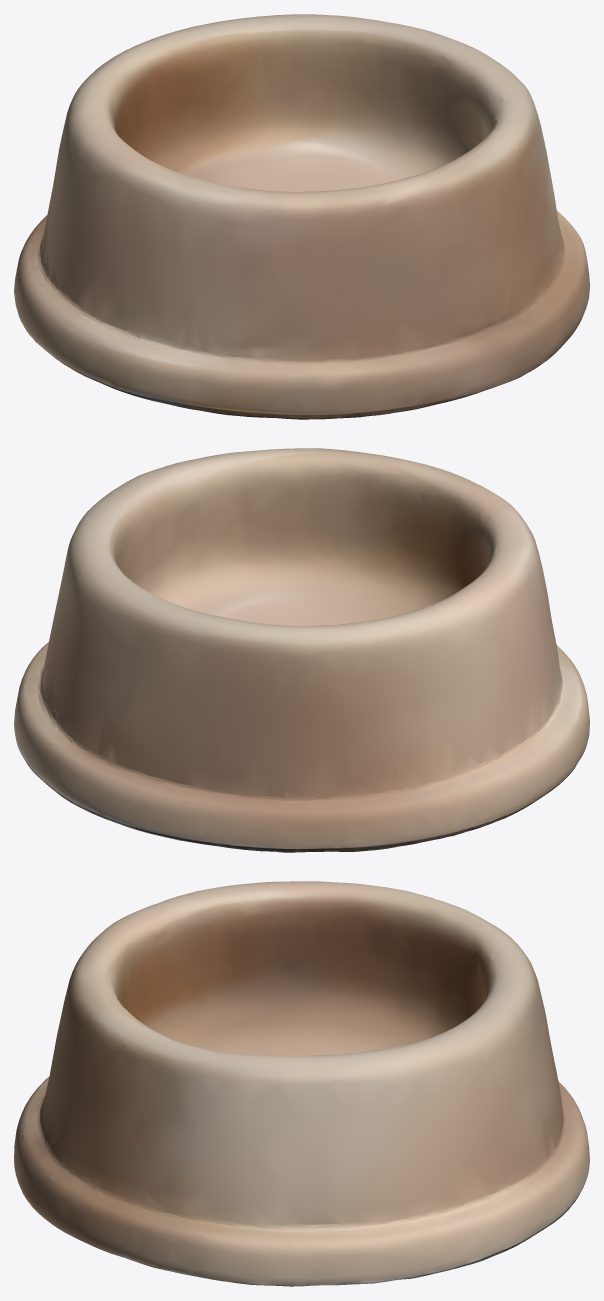
Rendered from FoodBowl_Empty.glb.
3 views of the same model, one above another, from view 1: azimuth 30°, elevation 25°; view 2: azimuth 150°, elevation 25°; view 3: azimuth 270°, elevation 25° (orthographic).
Parts seen in each view (by area): view 1: model; view 2: model; view 3: model.
Boxes of the visible parts, <box> form: model: <box>14,14,589,419</box>; model: <box>14,448,589,852</box>; model: <box>14,881,589,1286</box>.
Bounding box in the file's own units: 1.81 × 0.678 × 1.8.
1 material, 1 textured.
